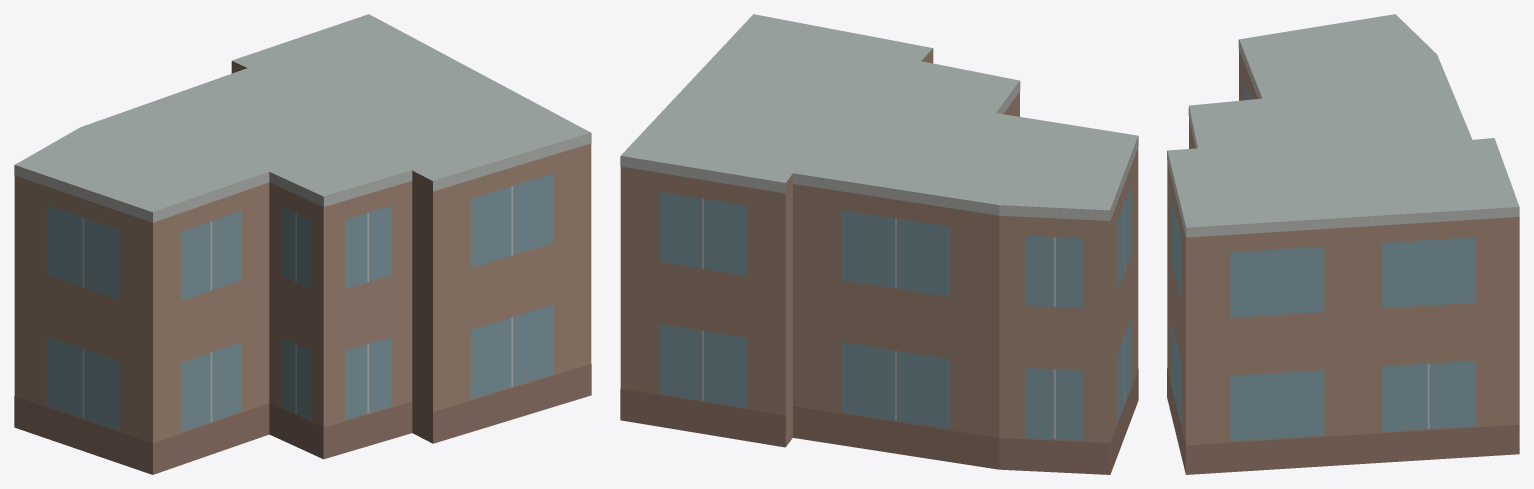
File: survey-upis-32894989.glb
The picture shows the model from 3 angles, left to right: view 1: azimuth 30°, elevation 25°; view 2: azimuth 150°, elevation 25°; view 3: azimuth 270°, elevation 25°; orthographic projection. The views are drawn at different scales.
Parts seen in each view (by area): view 1: survey-upis-32894989.tmp; view 2: survey-upis-32894989.tmp; view 3: survey-upis-32894989.tmp.
Boxes of the visible parts, bbox=[...] form: survey-upis-32894989.tmp: bbox=[14, 14, 591, 474]; survey-upis-32894989.tmp: bbox=[620, 14, 1138, 474]; survey-upis-32894989.tmp: bbox=[1167, 14, 1519, 474].
Bounding box in the file's own units: 11.33 × 6.1 × 7.9.
